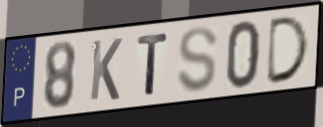0: (224, 18, 263, 91)
8: (43, 38, 78, 111)
D: (264, 13, 312, 88)
K: (88, 36, 125, 103)
S: (175, 24, 220, 95)
T: (135, 30, 170, 98)
